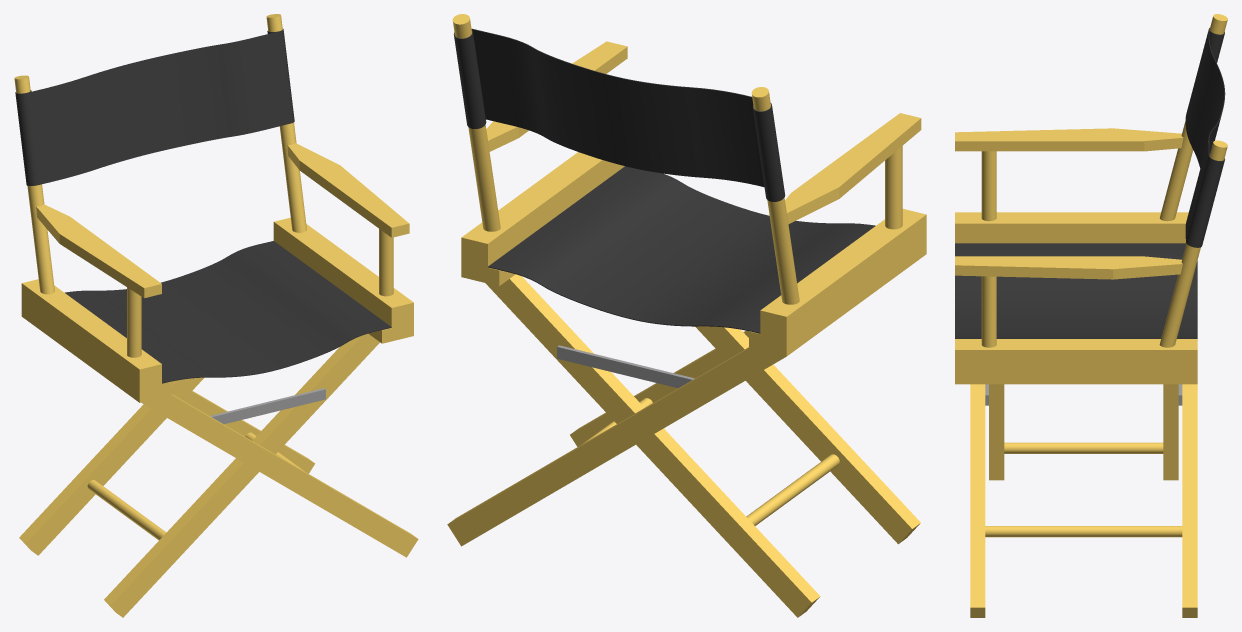
The picture shows the model from 3 angles, left to right: view 1: azimuth 30°, elevation 25°; view 2: azimuth 150°, elevation 25°; view 3: azimuth 270°, elevation 25°; orthographic projection. The views are drawn at different scales.
Parts seen in each view (by area): view 1: Back, Seat, Dowels (×2), group_4, group_3, group_6, Right_Arm, group_0 (×2), Left_Arm, group_8, group_1 (×2), group_10 (+3 smaller); view 2: Seat, Back, Dowels (×2), group_6, group_5, group_4, Right_Arm, group_0 (×2), group_8, group_9, Left_Arm, group_3 (+3 smaller); view 3: Seat, Dowels (×2), Back, Right_Arm, Left_Arm, group_3, group_5, group_7, group_0 (×2), group_11, group_1 (×2), group_2 (+2 smaller).
Part boxes in pixels (x1,y1,x2,y2): Back: [15, 29, 294, 185]; Seat: [65, 241, 391, 383]; Dowels (×2): [21, 217, 413, 389]; group_4: [104, 333, 379, 617]; group_3: [141, 394, 418, 557]; group_6: [19, 377, 203, 555]; Right_Arm: [36, 204, 161, 298]; group_0 (×2): [14, 14, 306, 294]; Left_Arm: [287, 143, 409, 237]; group_8: [21, 303, 171, 402]; group_1 (×2): [127, 229, 393, 357]; group_10: [210, 388, 325, 424]; Seat: [488, 166, 875, 333]; Back: [453, 28, 785, 201]; Dowels (×2): [461, 152, 926, 340]; group_6: [485, 274, 820, 617]; group_5: [447, 342, 786, 546]; group_4: [695, 326, 920, 544]; Right_Arm: [785, 113, 921, 224]; group_0 (×2): [452, 14, 799, 304]; group_8: [749, 238, 926, 356]; group_9: [557, 345, 694, 388]; Left_Arm: [486, 41, 627, 151]; group_3: [570, 330, 748, 446]; Seat: [955, 243, 1197, 338]; Dowels (×2): [955, 212, 1197, 370]; Back: [1185, 28, 1225, 247]; Right_Arm: [955, 128, 1183, 151]; Left_Arm: [955, 256, 1182, 279]; group_3: [970, 384, 985, 617]; group_5: [1182, 384, 1197, 617]; group_7: [955, 370, 1197, 384]; group_0 (×2): [1159, 14, 1227, 347]; group_11: [985, 526, 1182, 537]; group_1 (×2): [981, 151, 996, 347]; group_2: [1004, 442, 1163, 453].
Size of the model in its own units: 23.35 by 18 by 34.2.
